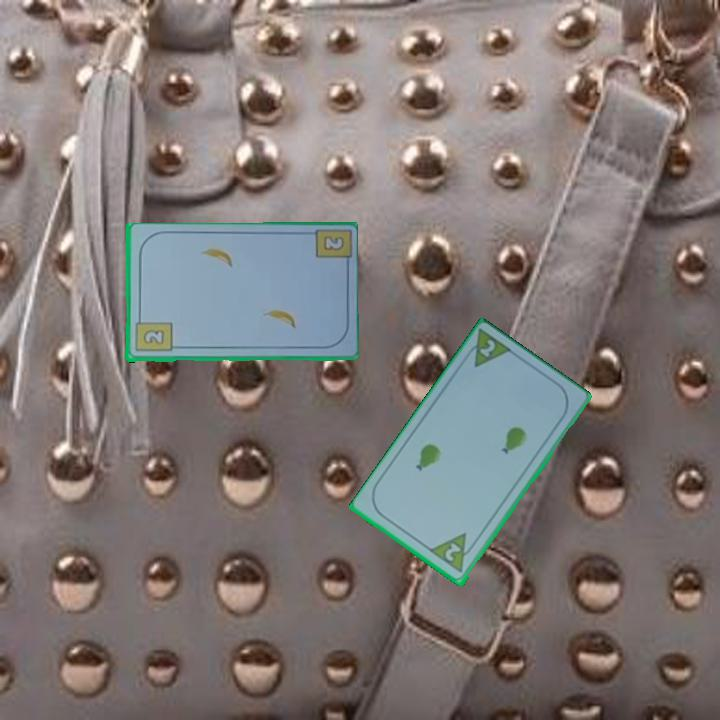2b: (132, 313, 174, 355), (320, 233, 347, 254)
2p: (459, 327, 516, 371), (427, 530, 480, 576)
